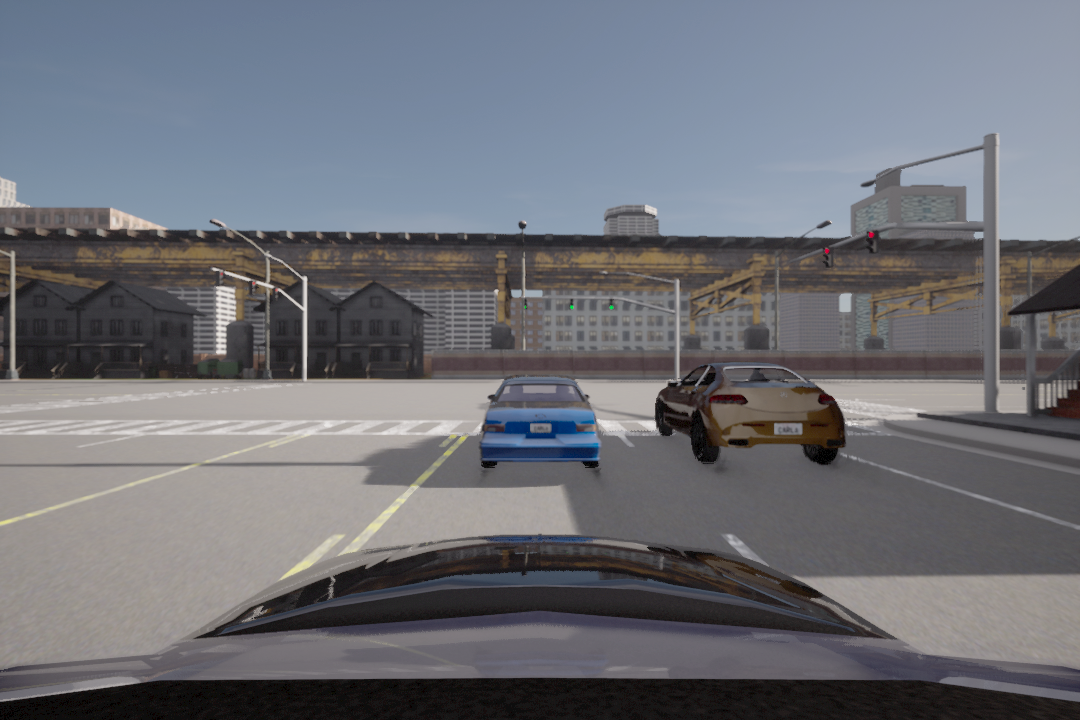TrafficLight: (817, 241, 835, 270), (863, 228, 881, 256), (247, 277, 259, 297), (214, 268, 225, 288), (270, 284, 278, 304), (605, 297, 616, 311), (521, 297, 528, 312), (568, 298, 574, 311)
walkside: (5, 415, 917, 442)
